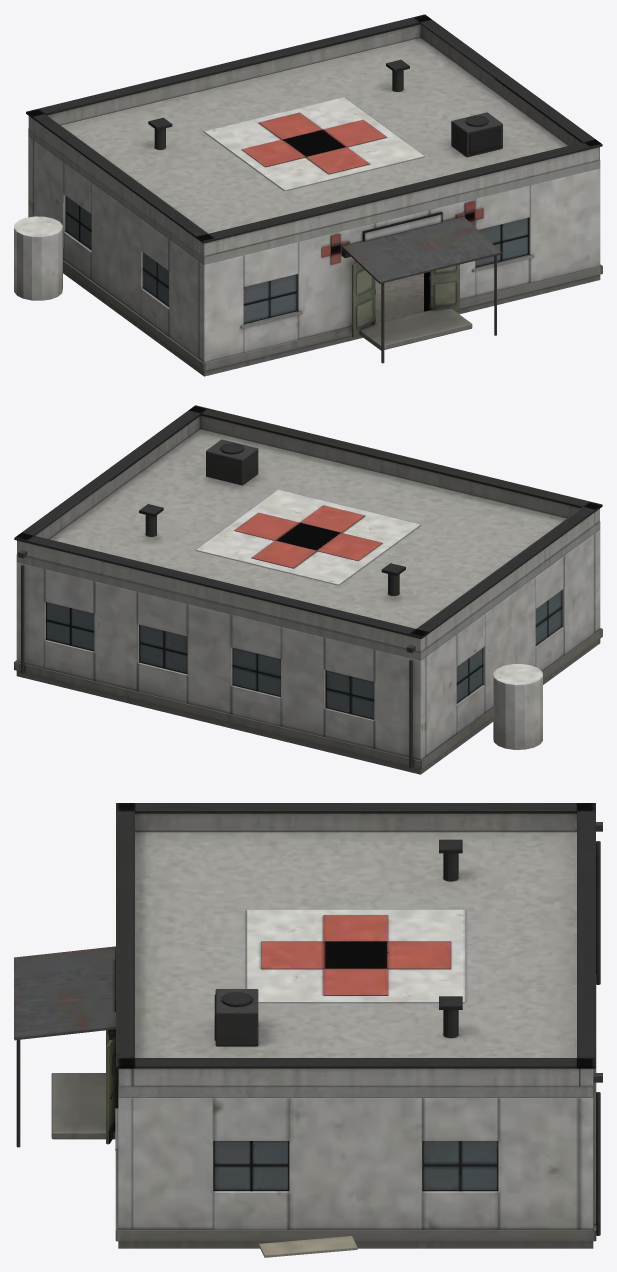
Rendered from hospital.glb.
3 views of the same model, one above another, from view 1: azimuth 30°, elevation 25°; view 2: azimuth 150°, elevation 25°; view 3: azimuth 270°, elevation 25° (orthographic). The views are drawn at different scales.
Visible parts, largest first — view 1: BldH_Roof, BldH_Shell; view 2: BldH_Roof, BldH_Shell; view 3: BldH_Roof, BldH_Shell.
Boxes of the visible parts, left/top/right/bottom form: BldH_Roof: left=26, top=14, right=602, bottom=264; BldH_Shell: left=14, top=136, right=602, bottom=376; BldH_Roof: left=14, top=405, right=602, bottom=660; BldH_Shell: left=14, top=530, right=602, bottom=774; BldH_Roof: left=116, top=803, right=595, bottom=1097; BldH_Shell: left=14, top=822, right=602, bottom=1257.
Size of the model in its own units: 16.79 by 4.6 by 12.4.
Materials: 3 (3 with a texture image).
